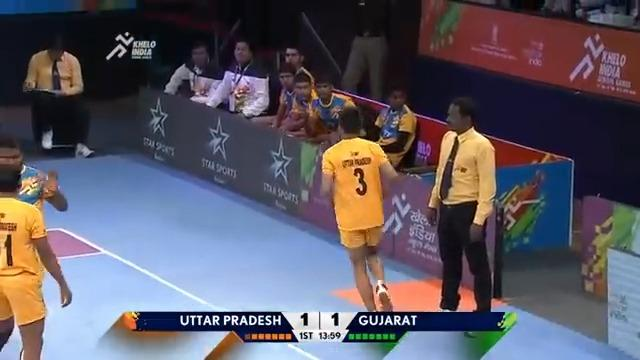Player: (319, 105, 400, 312), (0, 160, 72, 359), (205, 38, 270, 117), (372, 81, 417, 171), (303, 75, 355, 143), (163, 40, 222, 98)
referee: (425, 96, 497, 315), (21, 32, 95, 158)
